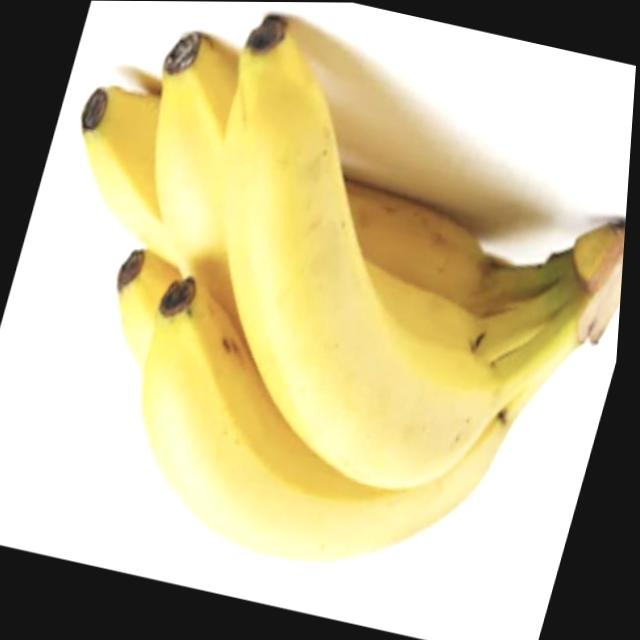Banana: (0, 0, 640, 623)
